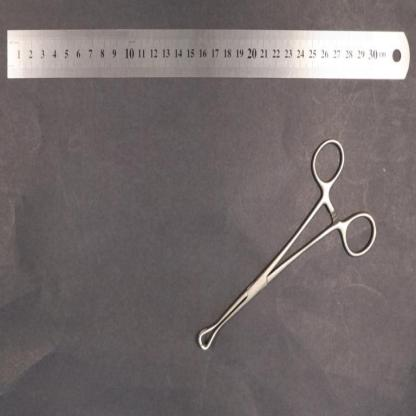Babcock Tissue Forceps: (198, 137, 379, 351)
